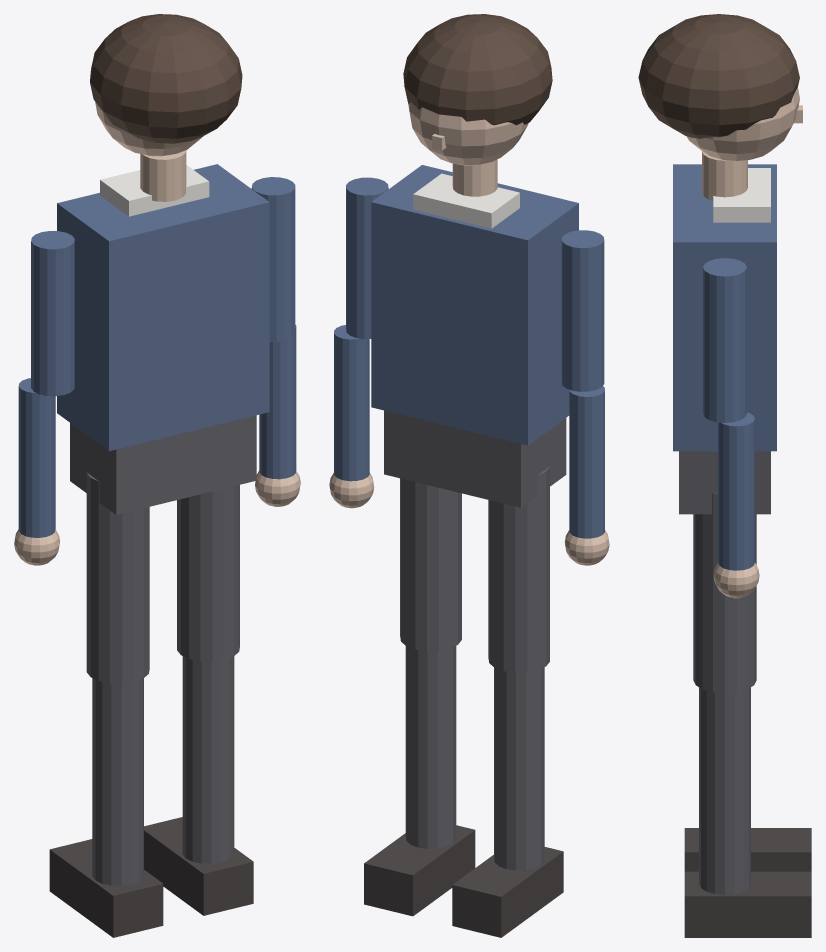
Rendered from staff_morgan.glb.
The picture shows the model from 3 angles, left to right: view 1: azimuth 30°, elevation 25°; view 2: azimuth 150°, elevation 25°; view 3: azimuth 270°, elevation 25°; orthographic projection. The views are drawn at different scales.
Visible parts, largest first — view 1: staff_morgan; view 2: staff_morgan; view 3: staff_morgan.
Part boxes in pixels (bbox=[...]): staff_morgan: bbox=[14, 14, 300, 937]; staff_morgan: bbox=[329, 14, 609, 937]; staff_morgan: bbox=[638, 14, 811, 937].
Bounding box in the file's own units: 0.5646 × 1.7 × 0.3024.
